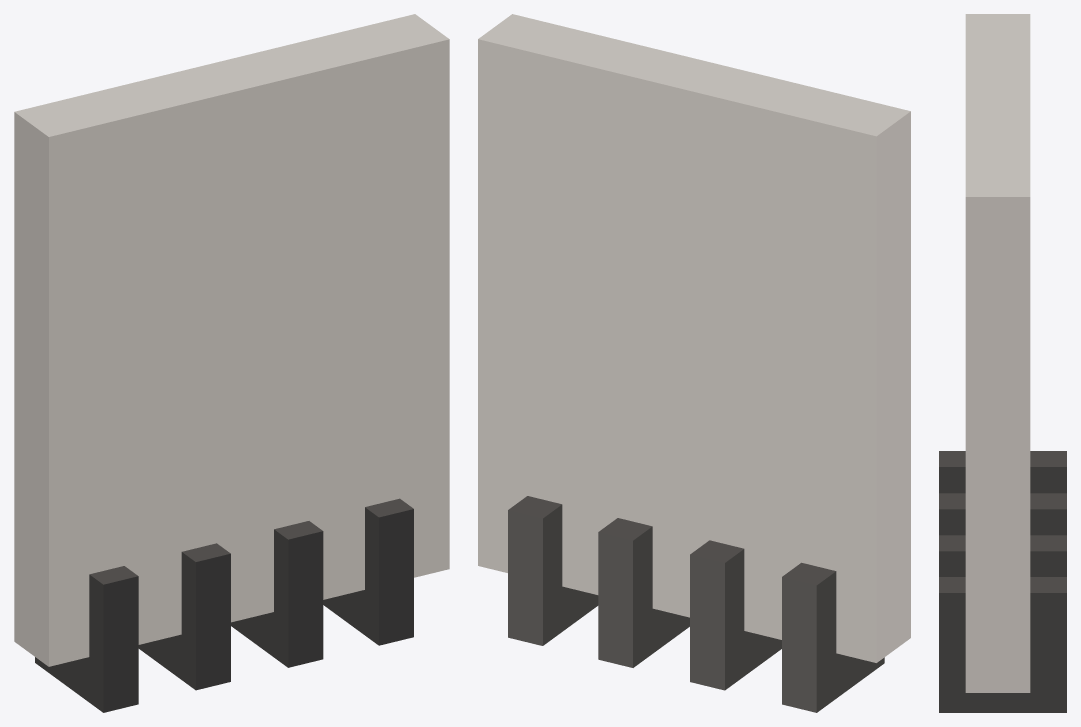
The model's file is Notepad2.glb.
3 views of the same model, side by side, from view 1: azimuth 30°, elevation 25°; view 2: azimuth 150°, elevation 25°; view 3: azimuth 270°, elevation 25° (orthographic). The views are drawn at different scales.
Parts seen in each view (by area): view 1: SO_Notepad_02; view 2: SO_Notepad_02; view 3: SO_Notepad_02.
Boxes of the visible parts, box(x1,y1,x2,y2) form: SO_Notepad_02: box(14, 14, 449, 712); SO_Notepad_02: box(478, 14, 910, 712); SO_Notepad_02: box(939, 14, 1066, 712).
Size of the model in its own units: 0.3308 by 0.4537 by 0.0977.
Materials: 1 (1 with a texture image).
